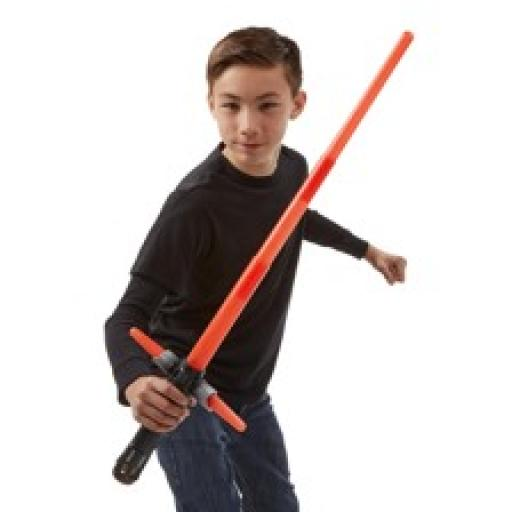human: (102, 27, 408, 512)
sith saber: (112, 29, 414, 482)
